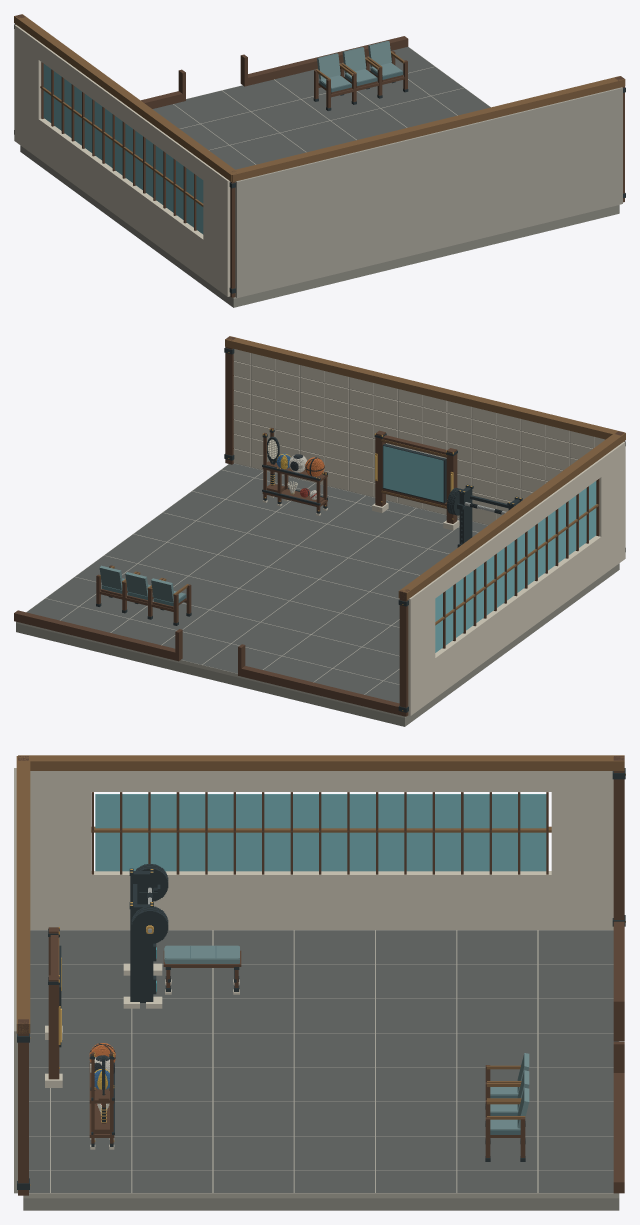
Rendered from visual-far.glb.
3 views of the same model, one above another, from view 1: azimuth 30°, elevation 25°; view 2: azimuth 150°, elevation 25°; view 3: azimuth 270°, elevation 25° (orthographic). The views are drawn at different scales.
Parts seen in each view (by area): view 1: 真实窗洞、木梁与切角房间墙, 分层实心台基与独立石铺面, 三席连座与连续倾斜靠背; view 2: 真实窗洞、木梁与切角房间墙, 分层实心台基与独立石铺面, 公共公告屏/告示板, 体育球及球具, 三席连座与连续倾斜靠背, 体育器械框架; view 3: 分层实心台基与独立石铺面, 真实窗洞、木梁与切角房间墙, 体育器械框架, 三席连座与连续倾斜靠背, 体育球及球具, 公共公告屏/告示板.
Part boxes in pixels (bbox=[...]): 真实窗洞、木梁与切角房间墙: bbox=[14, 14, 625, 297]; 分层实心台基与独立石铺面: bbox=[20, 46, 619, 307]; 三席连座与连续倾斜靠背: bbox=[313, 41, 408, 110]; 真实窗洞、木梁与切角房间墙: bbox=[14, 336, 625, 716]; 分层实心台基与独立石铺面: bbox=[16, 463, 619, 726]; 公共公告屏/告示板: bbox=[372, 430, 459, 530]; 体育球及球具: bbox=[262, 427, 327, 515]; 三席连座与连续倾斜靠背: bbox=[96, 565, 191, 625]; 体育器械框架: bbox=[447, 484, 522, 547]; 分层实心台基与独立石铺面: bbox=[23, 930, 619, 1210]; 真实窗洞、木梁与切角房间墙: bbox=[14, 755, 625, 1195]; 体育器械框架: bbox=[123, 864, 241, 1008]; 三席连座与连续倾斜靠背: bbox=[485, 1053, 529, 1161]; 体育球及球具: bbox=[89, 1043, 115, 1149]; 公共公告屏/告示板: bbox=[45, 927, 62, 1087].
Size of the model in its own units: 9.44 by 3.08 by 9.04.
Materials: 29 (29 with a texture image).
